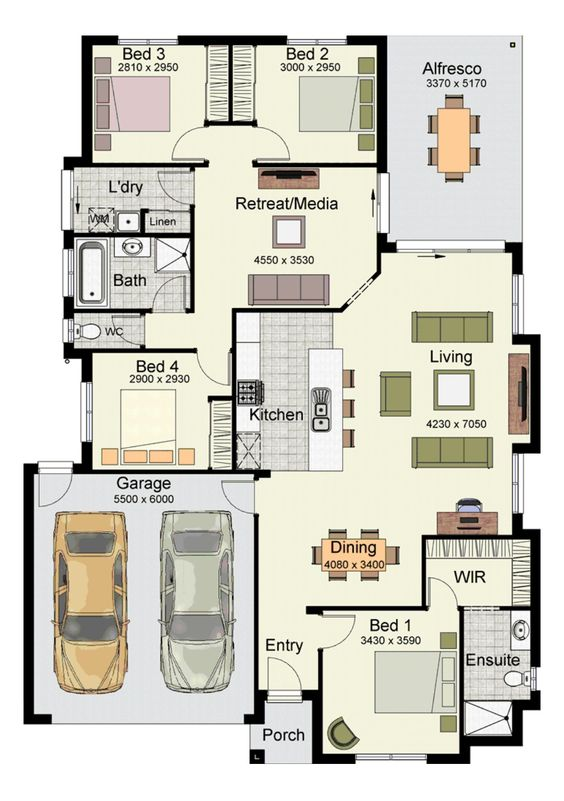room: (312, 606, 465, 764), (229, 36, 386, 168), (82, 35, 233, 168), (80, 348, 236, 475), (232, 308, 343, 471), (460, 606, 540, 701)
